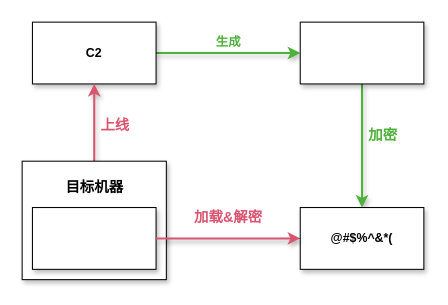
This 448x305 diagram has some shape labels left out. Each missing label, with the centre of its shape:
"shellcode" belongs at (362,54).
"加载器" belongs at (94,239).
